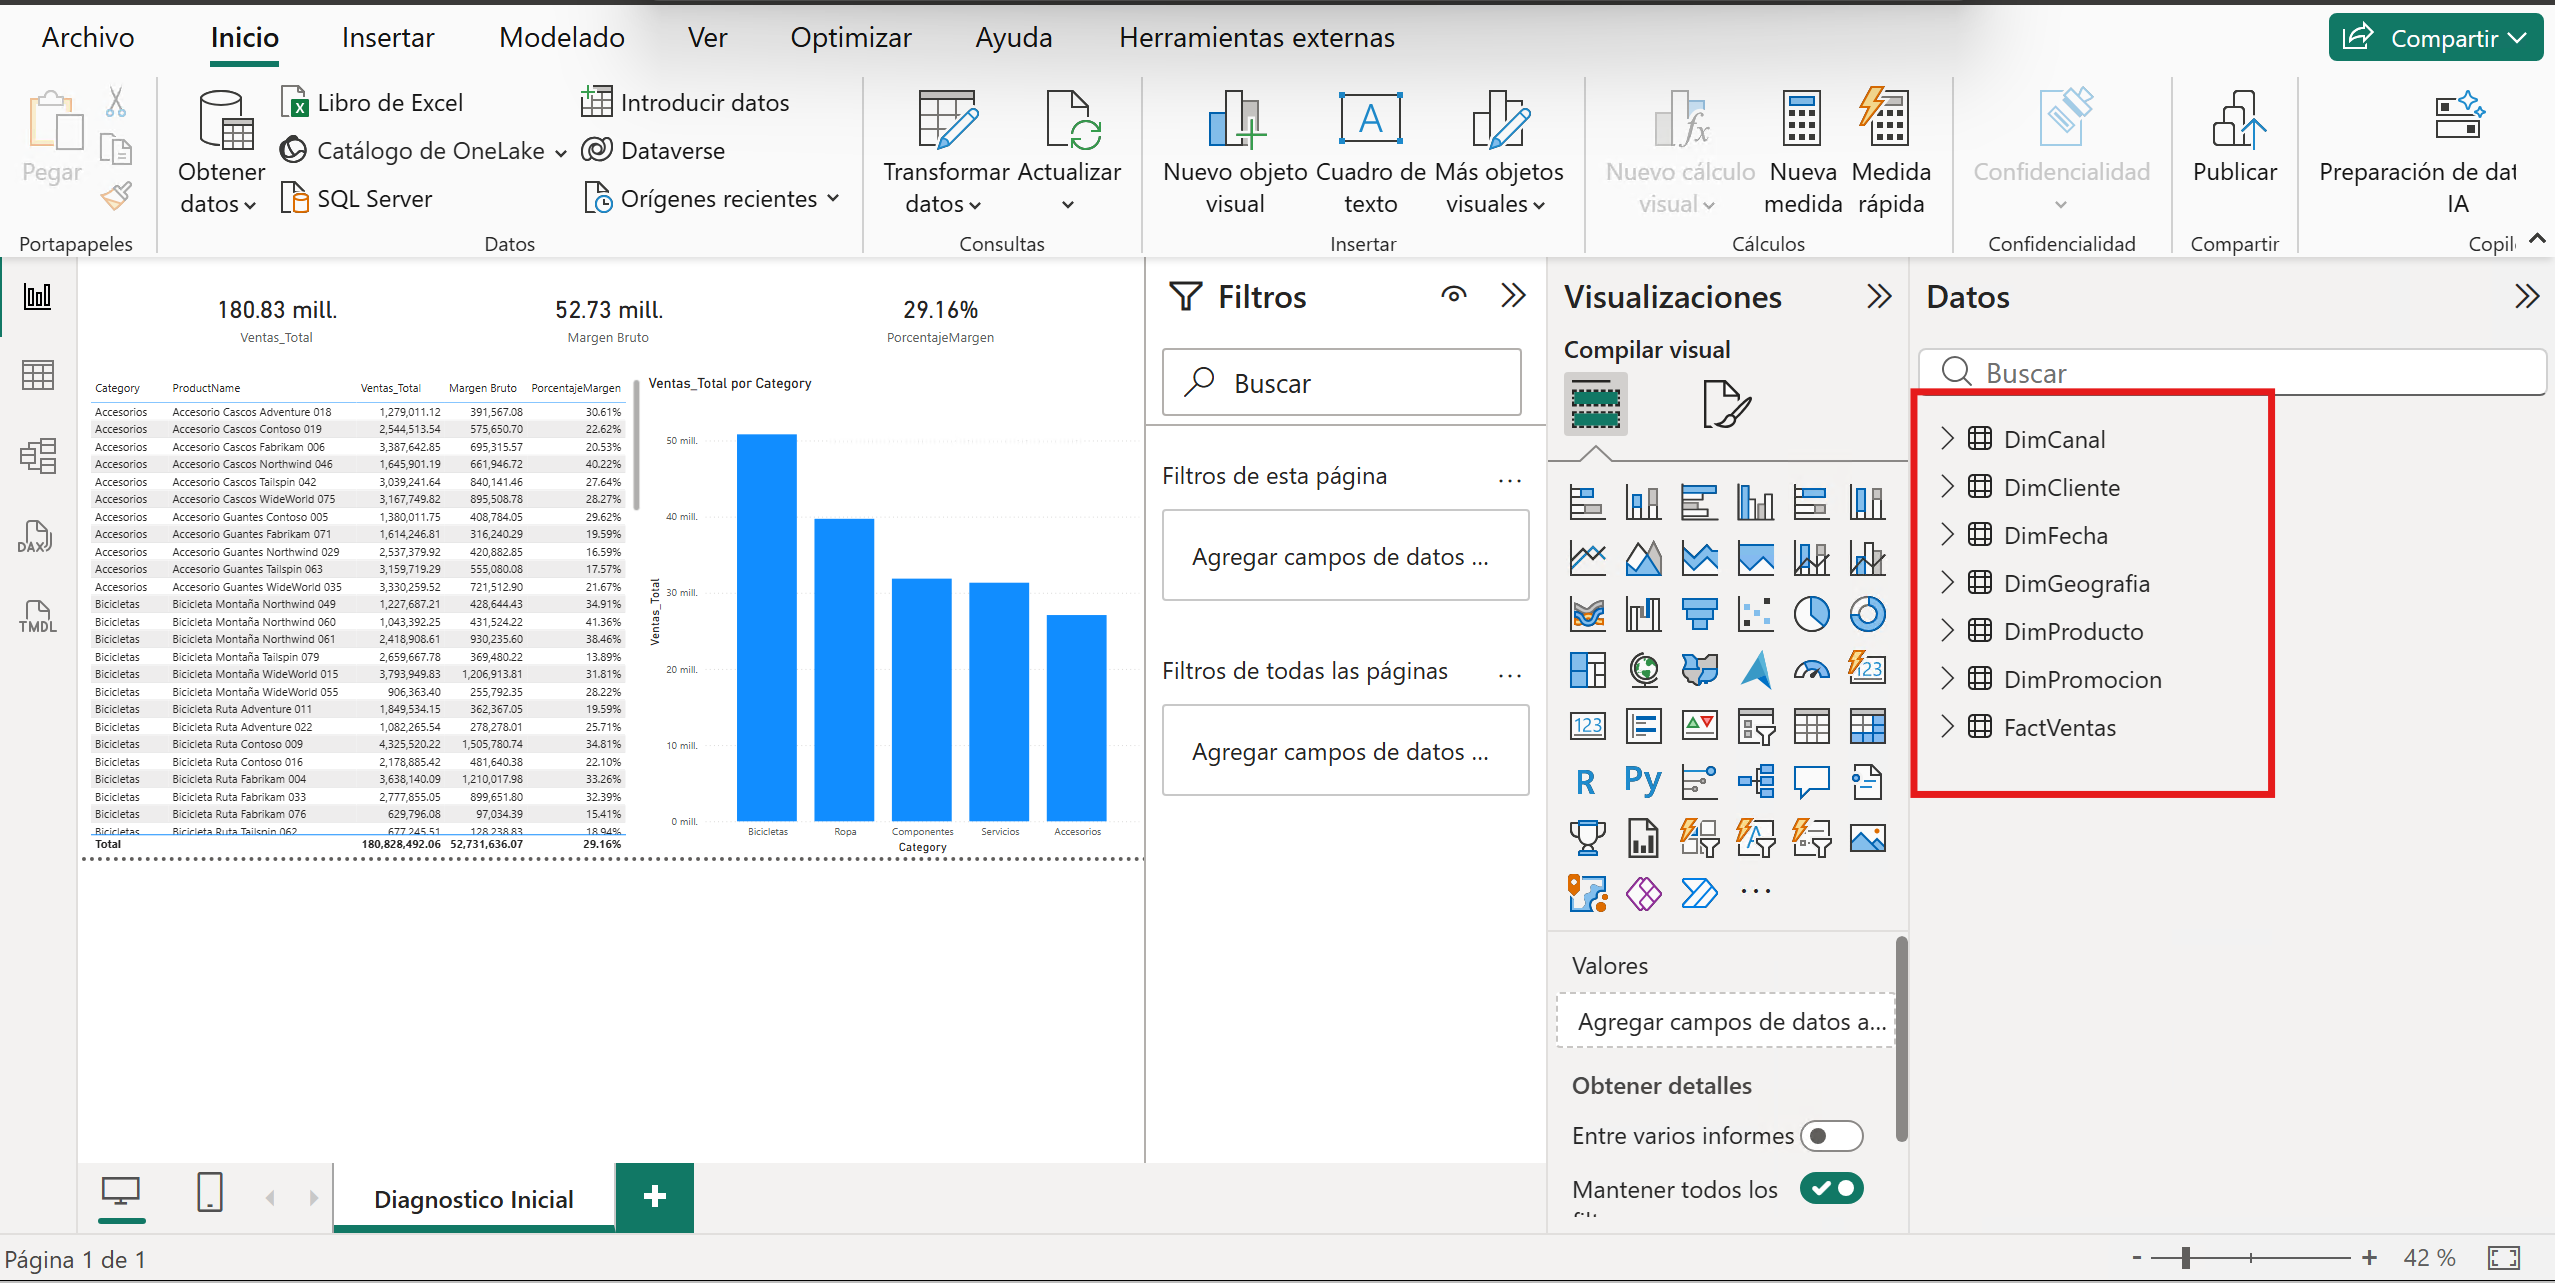

Layout of this report page (visuals, bound fields, positions):
{"tool":"powerbi","page":{"name":"Diagnostico Inicial","canvas":[1280,720],"ordinal":0},"visuals":[{"type":"card","fields":{"Values":["FactVentas.Ventas_Total"]},"box":[38.8,25.6,400,90.9],"z":0},{"type":"card","fields":{"Values":["FactVentas.Margen Bruto"]},"box":[436.4,25.6,399.5,90.9],"z":1000},{"type":"card","fields":{"Values":["FactVentas.PorcentajeMargen"]},"box":[836,25.6,400,90.9],"z":2000},{"type":"tableEx","fields":{"Values":["DimProducto.Category","DimProducto.ProductName","FactVentas.Ventas_Total","FactVentas.Margen Bruto","FactVentas.PorcentajeMargen"]},"box":[9.5,142,670.3,577.5],"z":3000},{"type":"clusteredColumnChart","fields":{"Category":["DimProducto.Category"],"Y":["FactVentas.Ventas_Total"]},"box":[679.8,142,600.2,579.4],"z":4000}]}

Visuals, with their boxes on the page's 1280x720 design canvas (x1, y1, x2, y2). These are canvas units, not pixel positions in the 2555x1283 screenshot, which may show the page scaled, cropped or inside an application window:
card - FactVentas.Ventas_Total: {"left": 39, "top": 26, "right": 439, "bottom": 116}
card - FactVentas.Margen Bruto: {"left": 436, "top": 26, "right": 836, "bottom": 116}
card - FactVentas.PorcentajeMargen: {"left": 836, "top": 26, "right": 1236, "bottom": 116}
tableEx - DimProducto.Category x DimProducto.ProductName: {"left": 10, "top": 142, "right": 680, "bottom": 720}
clusteredColumnChart - DimProducto.Category x FactVentas.Ventas_Total: {"left": 680, "top": 142, "right": 1280, "bottom": 721}
